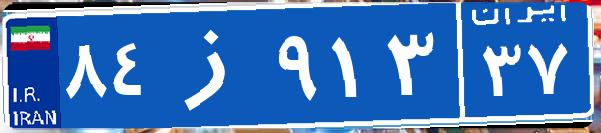1: (330, 28, 385, 110)
3: (385, 28, 445, 110), (475, 38, 525, 113)
4: (110, 28, 158, 105)
7: (525, 38, 570, 115)
8: (57, 26, 110, 107)
9: (273, 28, 330, 110)
ز: (158, 15, 273, 115)
